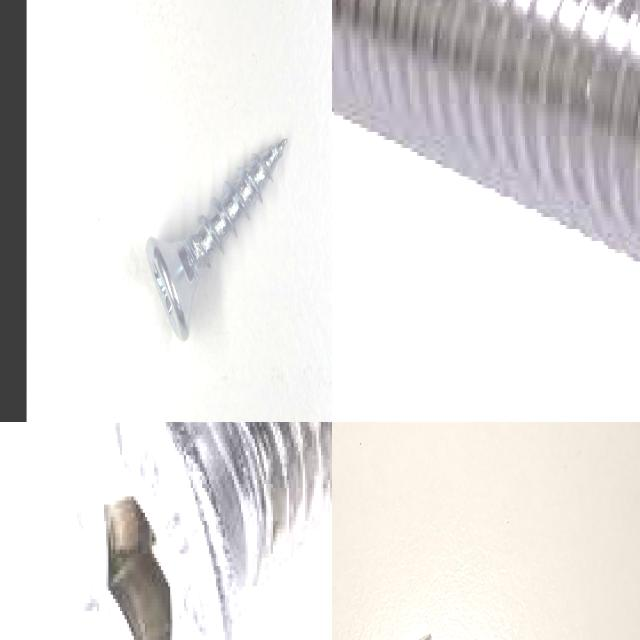Screw: (332, 0, 640, 264), (51, 422, 332, 640), (146, 138, 287, 340)
